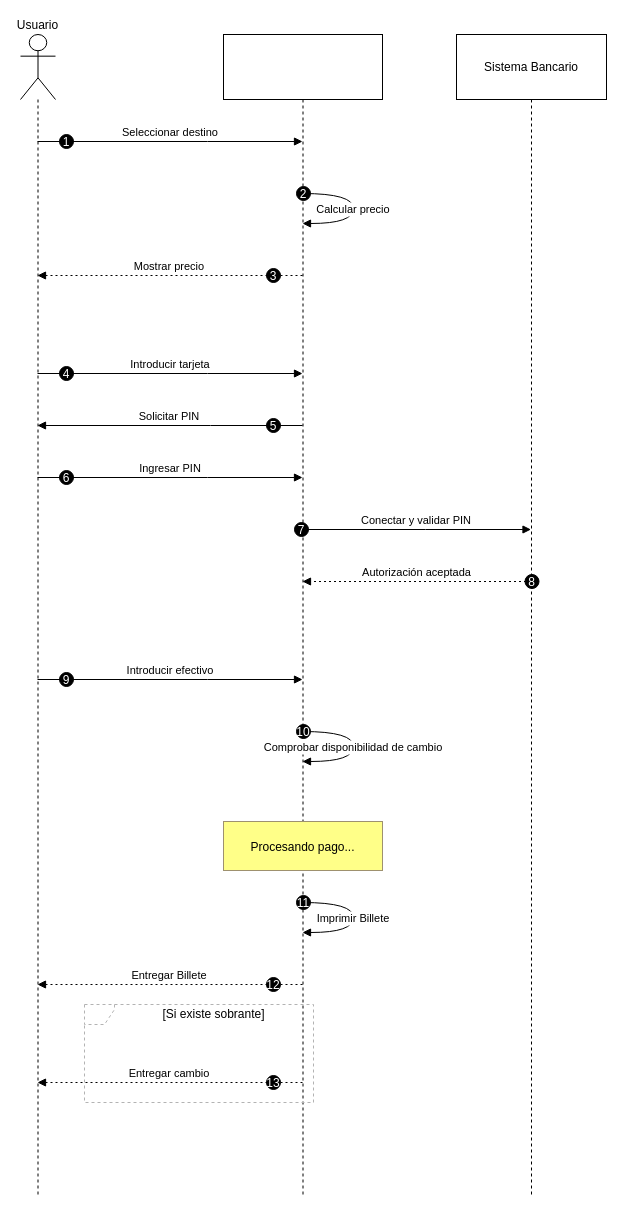
This 624x1215 diagram has some shape labels left out. The box of each missing label's shape, as (x1, y1, x2, y2) in pixels:
Máquina de Billetes: (222, 34, 382, 1198)
opt: (84, 1004, 314, 1102)
